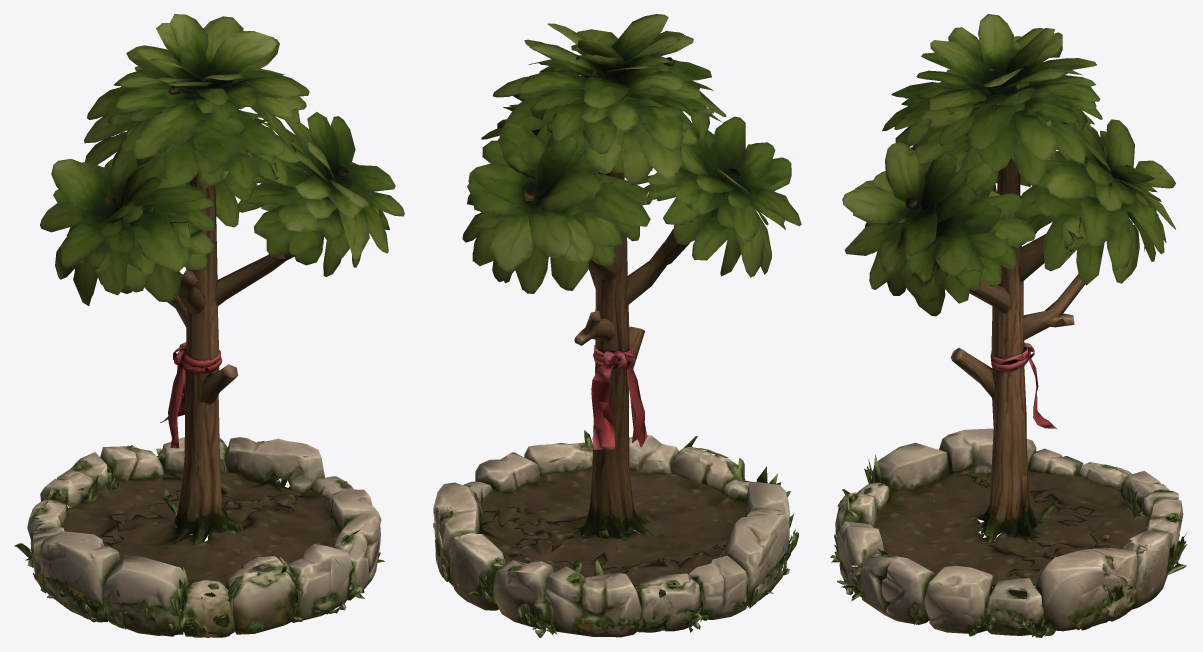
The model's file is nature_citizen-tree_stage2.glb.
3 renders of one model, left to right at view 1: azimuth 30°, elevation 25°; view 2: azimuth 150°, elevation 25°; view 3: azimuth 270°, elevation 25°, orthographic.
Parts seen in each view (by area): view 1: world; view 2: world; view 3: world.
Boxes of the visible parts, bbox=[...] form: world: bbox=[14, 14, 404, 637]; world: bbox=[433, 14, 801, 637]; world: bbox=[830, 14, 1187, 637].
Size of the model in its own units: 1.57 by 2.5 by 1.51.
Materials: 1 (1 with a texture image).
